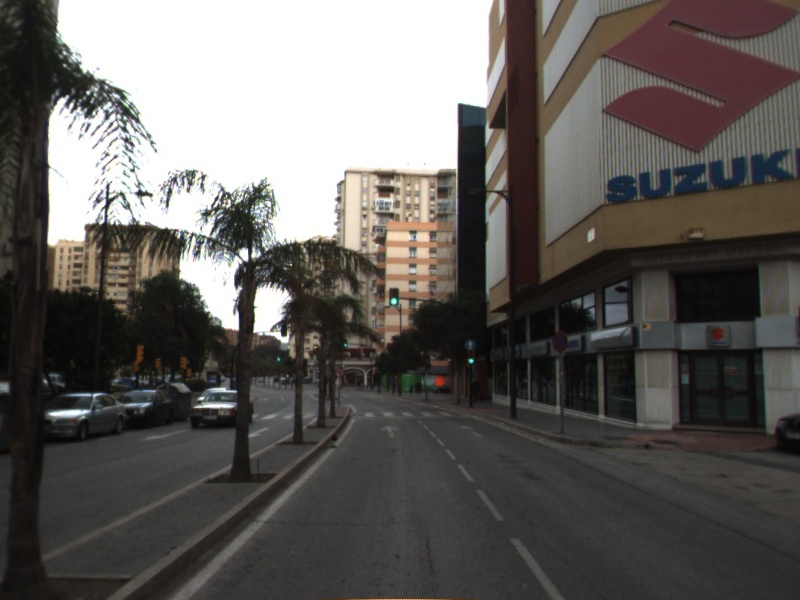STRAIGHT: (459, 423, 484, 439), (378, 424, 402, 439)
